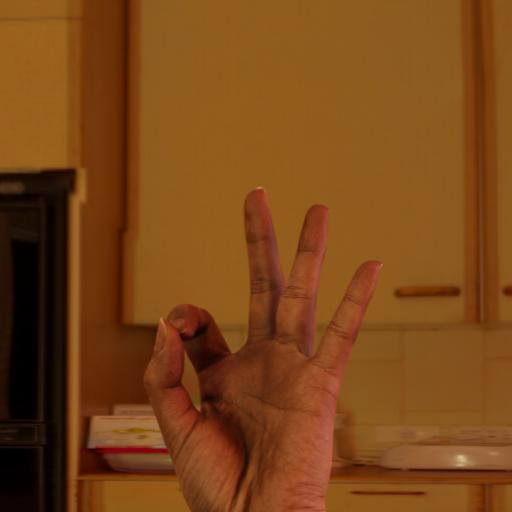F: (123, 174, 386, 512)
